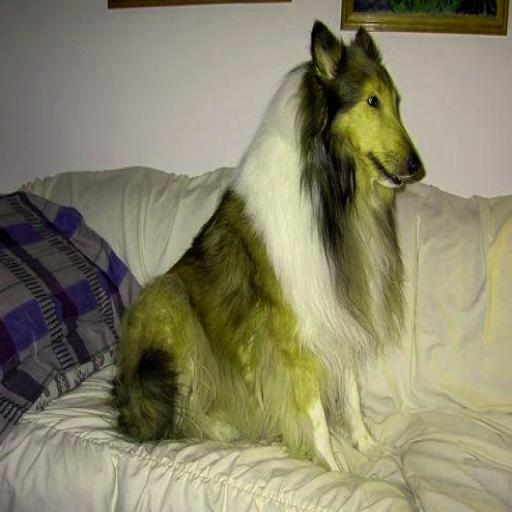dog_face: (292, 36, 424, 205)
